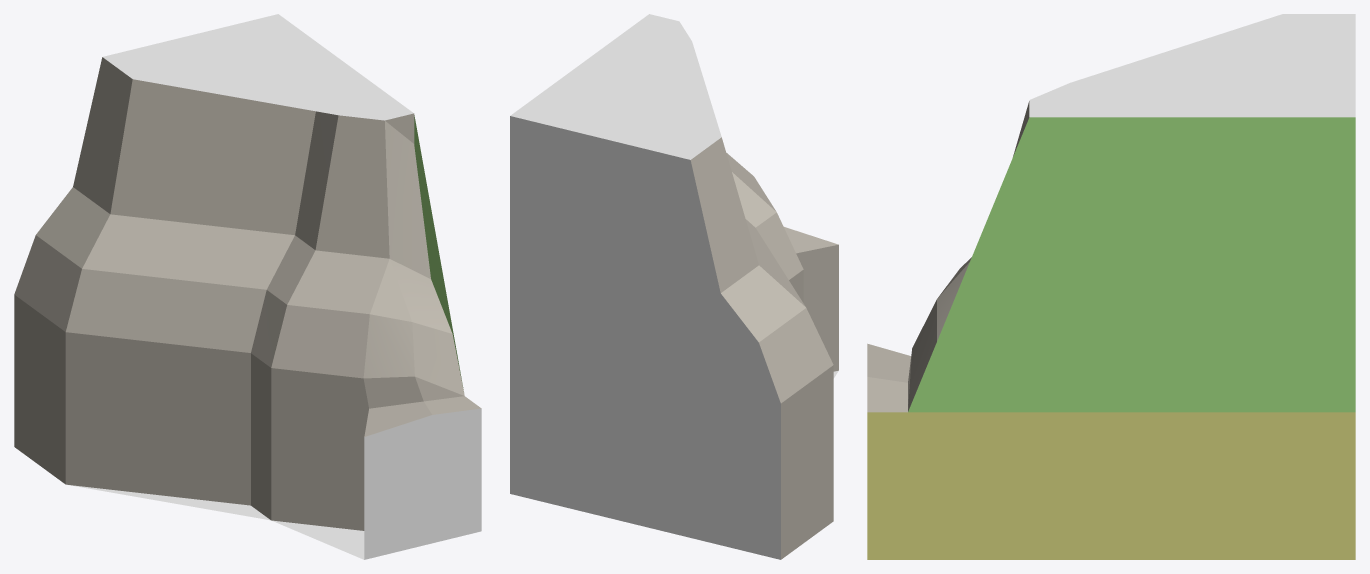
Rendered from Cave_Edge_Esse_Base_3x3.glb.
The picture shows the model from 3 angles, left to right: view 1: azimuth 30°, elevation 25°; view 2: azimuth 150°, elevation 25°; view 3: azimuth 270°, elevation 25°; orthographic projection. The views are drawn at different scales.
Parts seen in each view (by area): view 1: Cave_Edge_Esse_Base_3x3; view 2: Cave_Edge_Esse_Base_3x3; view 3: Cave_Edge_Esse_Base_3x3.
Boxes of the visible parts, x1,y1,x2,y2 form: Cave_Edge_Esse_Base_3x3: (14, 14, 481, 559); Cave_Edge_Esse_Base_3x3: (510, 14, 838, 559); Cave_Edge_Esse_Base_3x3: (867, 14, 1355, 559).
Bounding box in the file's own units: 225 × 300 × 300.
